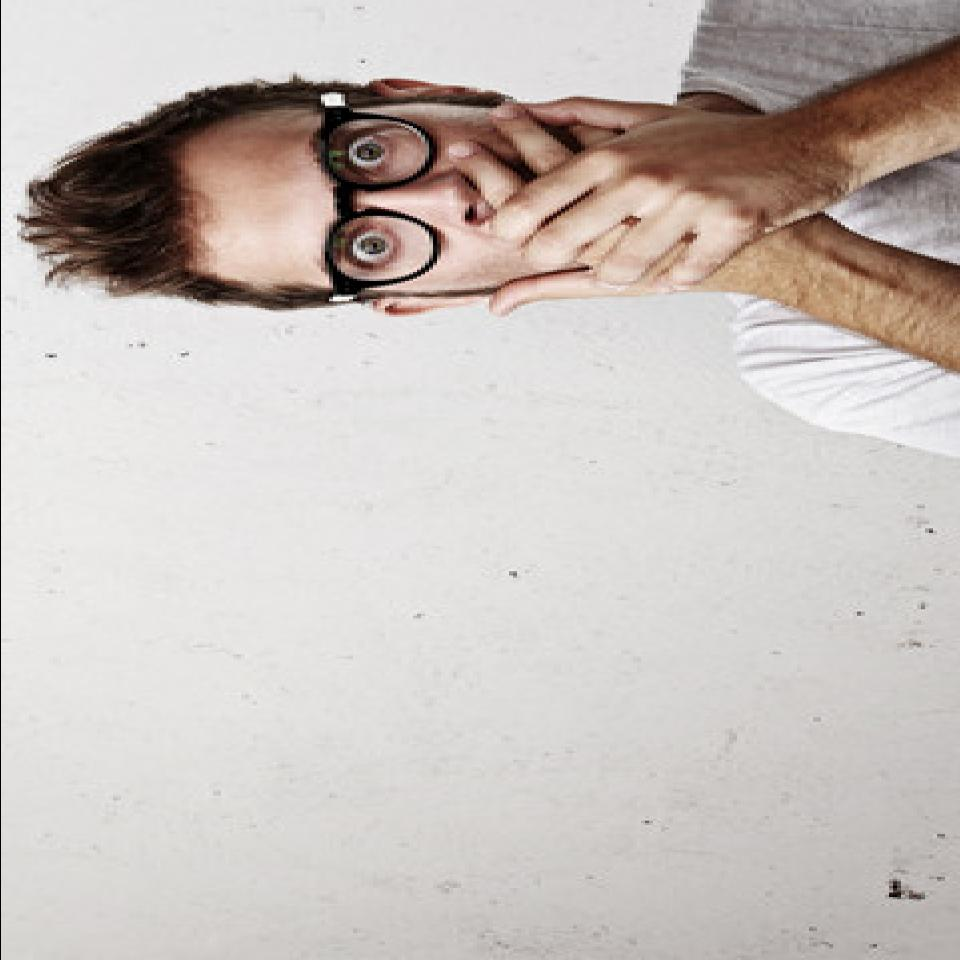Scared: (160, 77, 710, 315)
